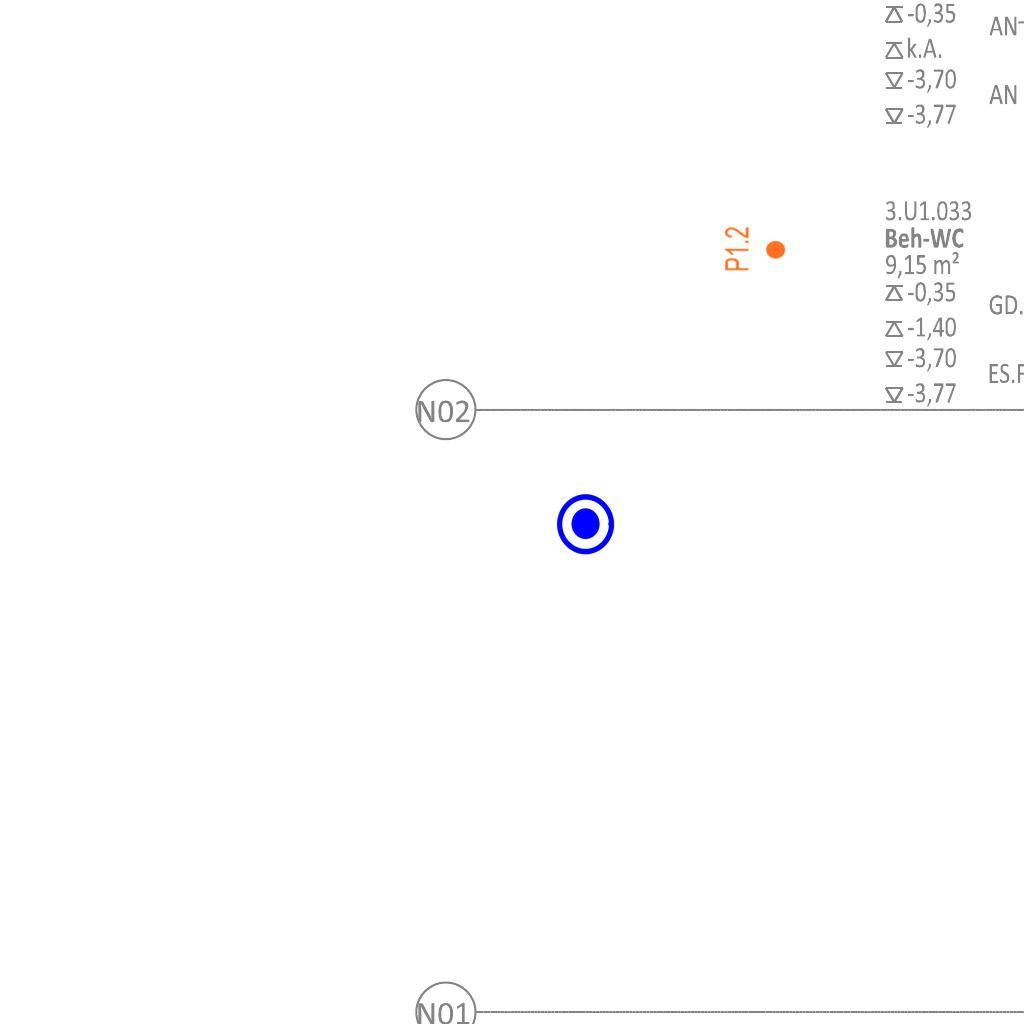Downlight_LED_Einbauleuchten_Flur: (723, 226, 787, 272)
Taster: (555, 491, 621, 557)
